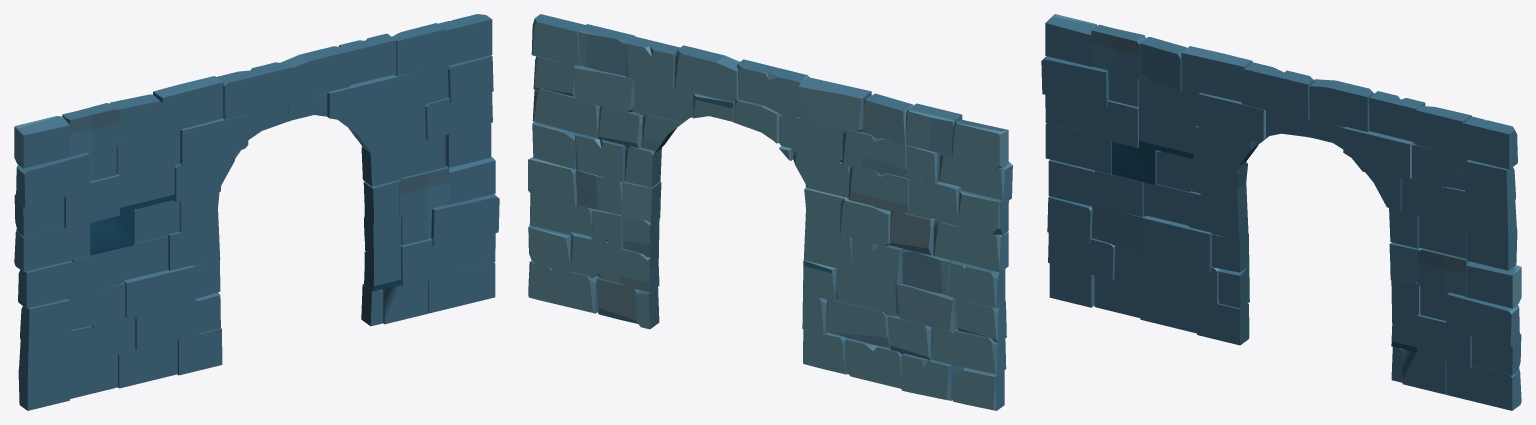
File: WallDoors.FBX
3 renders of one model, left to right at view 1: azimuth 30°, elevation 25°; view 2: azimuth 150°, elevation 25°; view 3: azimuth 330°, elevation 25°, orthographic.
Parts seen in each view (by area): view 1: WallDoors; view 2: WallDoors; view 3: WallDoors.
Part boxes in pixels (left/top/right/bottom): WallDoors: left=14, top=14, right=499, bottom=410; WallDoors: left=528, top=14, right=1012, bottom=410; WallDoors: left=1041, top=14, right=1521, bottom=410.
Size of the model in its own units: 1643 by 931 by 79.64.
